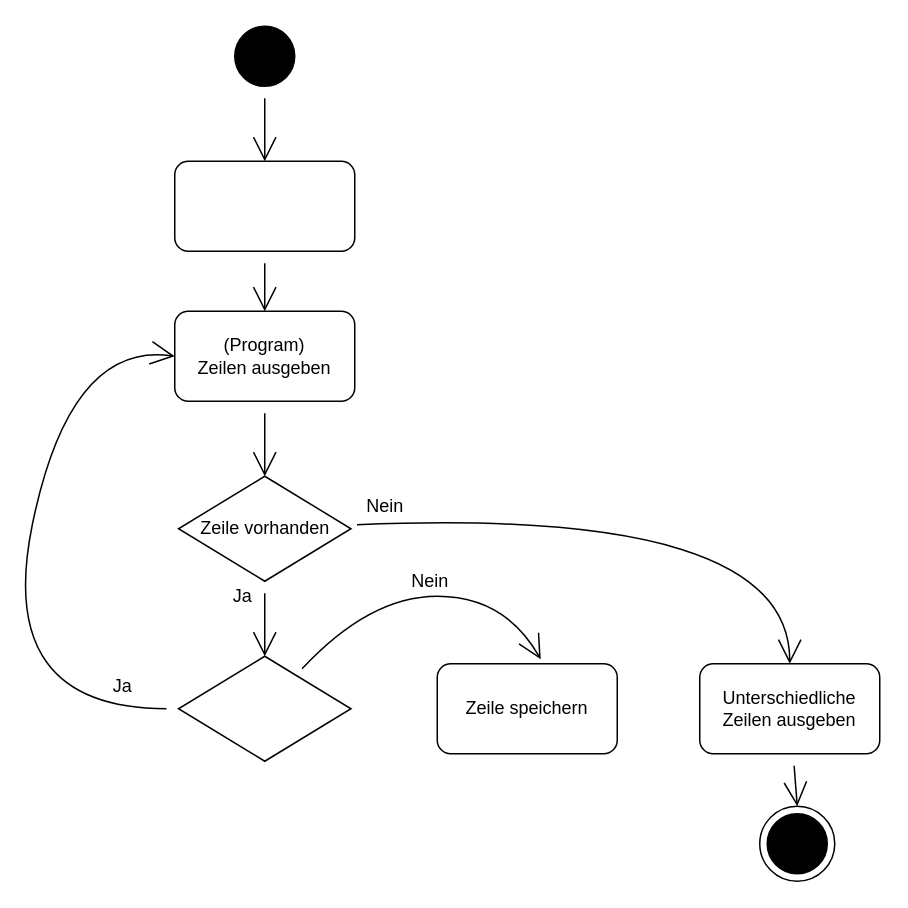
The diagram is 908 pixels wide and 908 high, and some of its shapes have lost their labels. Here are the shapes that lost their labels. From the top down, the centre of each, then its label:
the point at 264,205: Aufruf mit Parameter
the point at 264,708: Zeilen gleich
